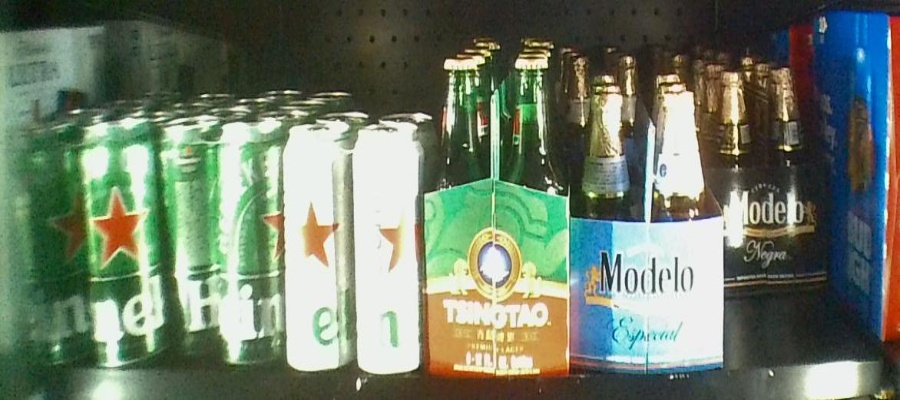bottle: (421, 53, 572, 377), (569, 81, 723, 375), (1, 119, 167, 373), (284, 125, 423, 375), (165, 128, 283, 368), (719, 73, 827, 291)
